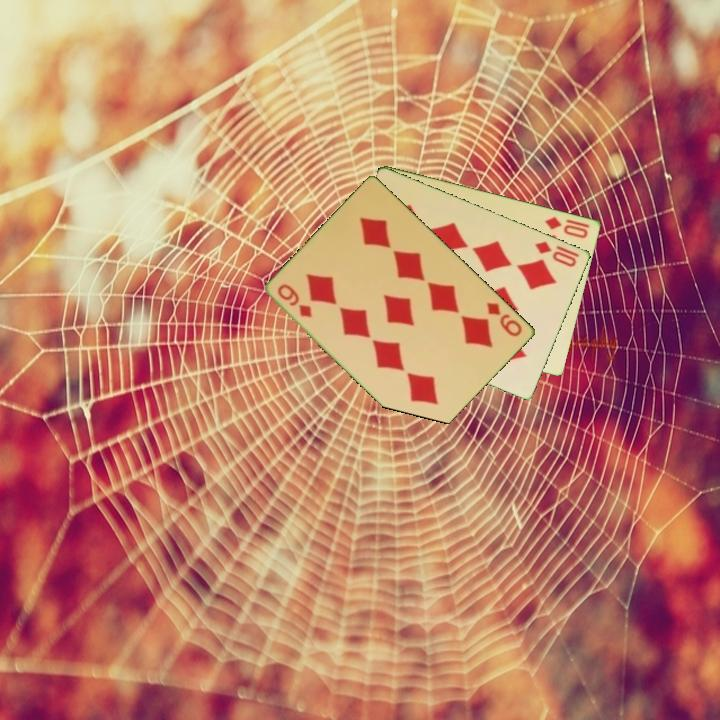10d: (532, 237, 580, 270), (542, 213, 591, 241)
9d: (484, 298, 526, 340), (274, 280, 316, 321)
